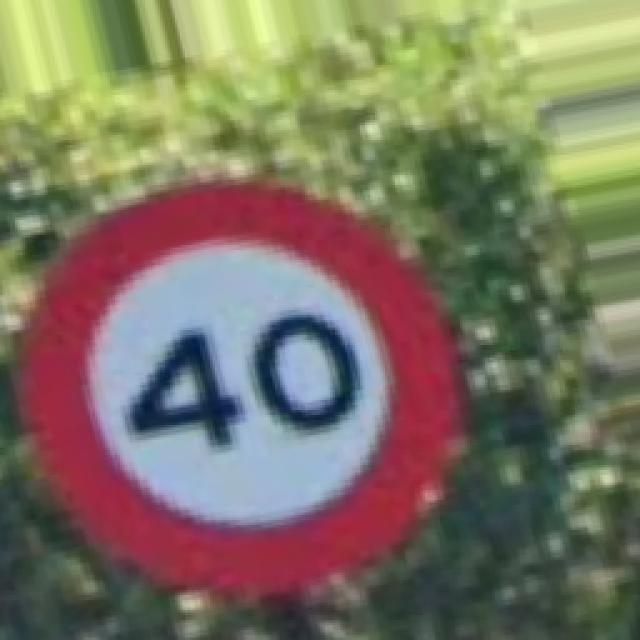Speed Limit -40-: (25, 182, 452, 595)
